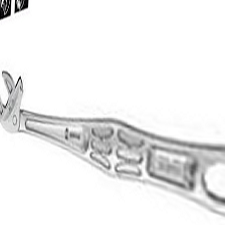wrench: (1, 61, 225, 204)
